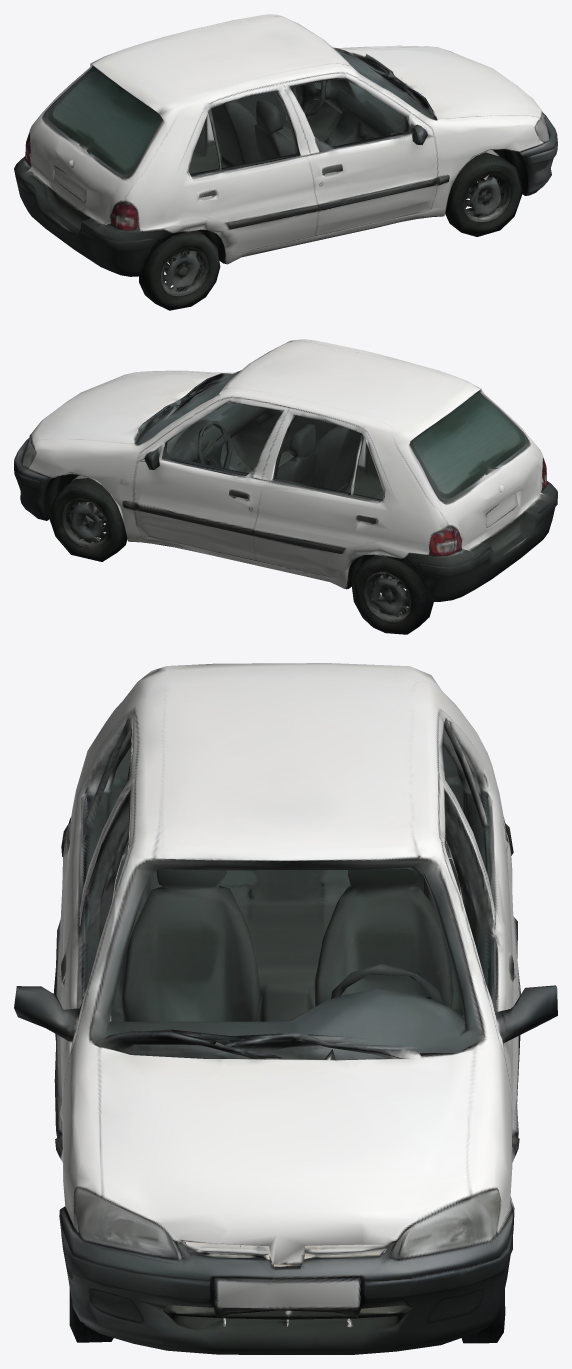
3 renders of one model, top to bottom at view 1: azimuth 30°, elevation 25°; view 2: azimuth 150°, elevation 25°; view 3: azimuth 270°, elevation 25°, orthographic. The views are drawn at different scales.
Parts seen in each view (by area): view 1: tripo_node_a31f3e57-1f42-4be9-8d9d-f8a6403d9e27; view 2: tripo_node_a31f3e57-1f42-4be9-8d9d-f8a6403d9e27; view 3: tripo_node_a31f3e57-1f42-4be9-8d9d-f8a6403d9e27.
Boxes of the visible parts, x1=… form: tripo_node_a31f3e57-1f42-4be9-8d9d-f8a6403d9e27: x1=14, y1=14, x2=557, y2=310; tripo_node_a31f3e57-1f42-4be9-8d9d-f8a6403d9e27: x1=14, y1=339, x2=557, y2=634; tripo_node_a31f3e57-1f42-4be9-8d9d-f8a6403d9e27: x1=14, y1=663, x2=557, y2=1354.
Size of the model in its own units: 3.69 by 1.45 by 1.85.
1 material, 1 textured.
